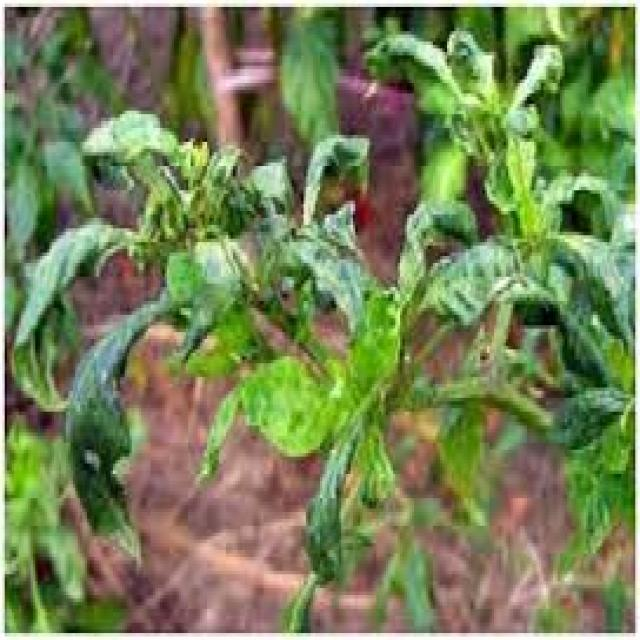Nutirtion_deficie: (283, 183, 483, 493), (0, 221, 177, 568), (95, 105, 333, 313), (452, 184, 640, 425), (364, 0, 562, 213)
